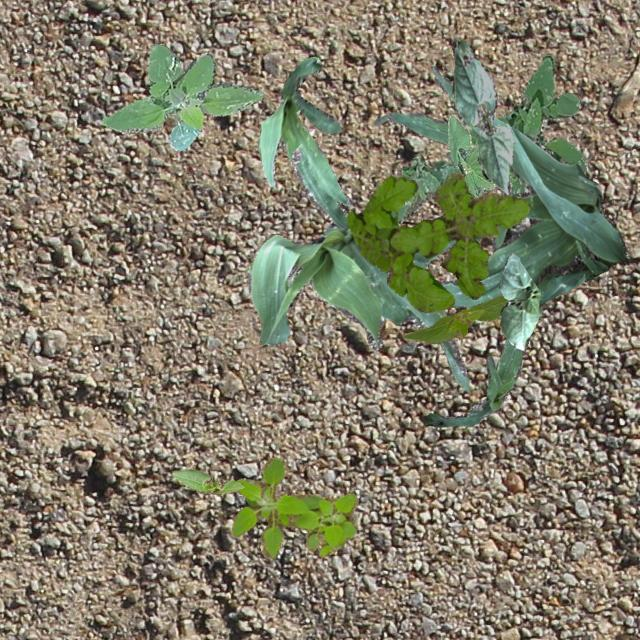crop: (246, 148, 468, 392), (432, 65, 626, 306), (413, 120, 540, 268), (256, 56, 352, 204), (450, 38, 512, 194), (422, 338, 524, 426), (402, 294, 508, 342), (498, 252, 540, 350), (446, 114, 494, 196), (372, 110, 448, 144), (172, 468, 242, 493)
weed: (390, 54, 586, 224), (346, 172, 528, 312), (100, 42, 262, 150), (230, 457, 358, 558)
